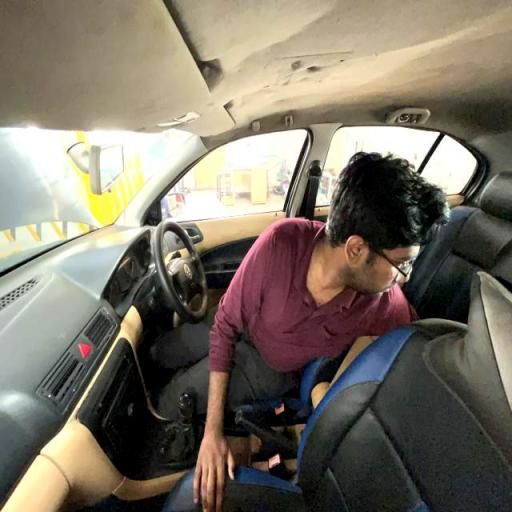Reaching_behind: (147, 145, 462, 412)
